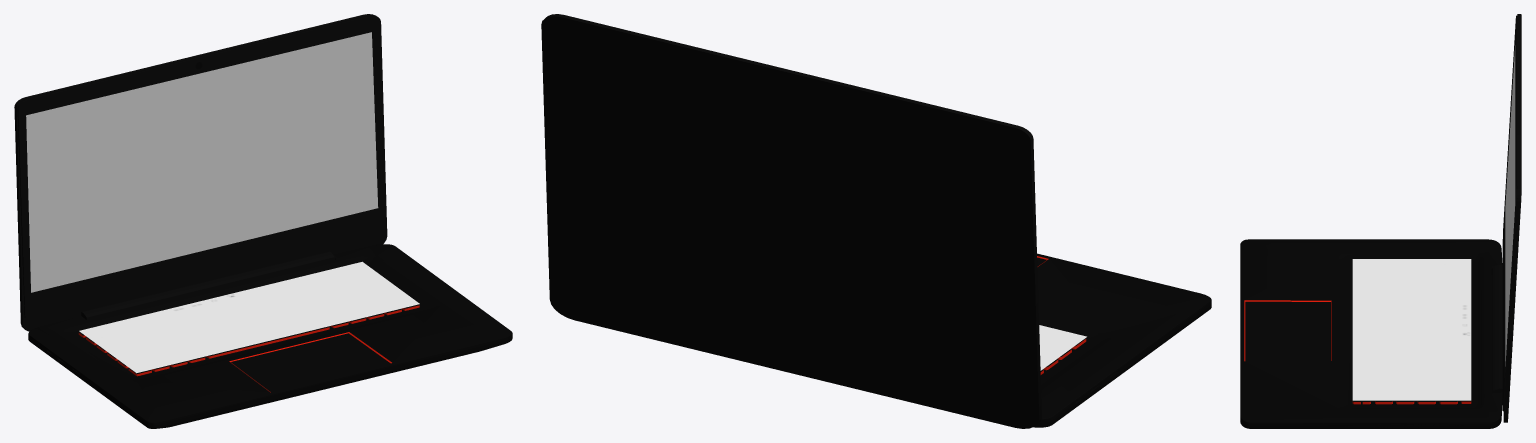
The model's file is Laptop updated.fbx.
3 renders of one model, left to right at view 1: azimuth 30°, elevation 25°; view 2: azimuth 150°, elevation 25°; view 3: azimuth 270°, elevation 25°, orthographic. The views are drawn at different scales.
Visible parts, largest first — view 1: Body.001, Body.004; view 2: Body.001, Body.004; view 3: Body.004, Body.001.
Part boxes in pixels (<box>): Body.001: <box>14,14,387,331</box>; Body.004: <box>28,62,512,428</box>; Body.001: <box>541,14,1041,428</box>; Body.004: <box>1033,253,1211,427</box>; Body.004: <box>1240,107,1515,428</box>; Body.001: <box>1492,14,1521,422</box>.
Bounding box in the file's own units: 331 × 206 × 215.
